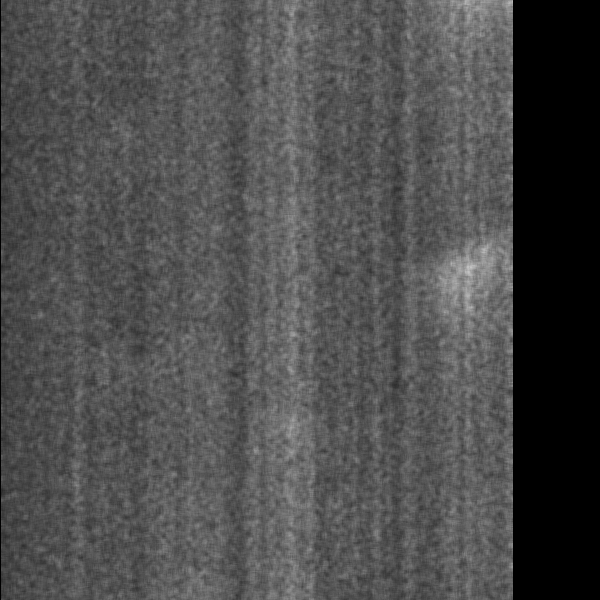spark: (418, 244, 508, 336)
